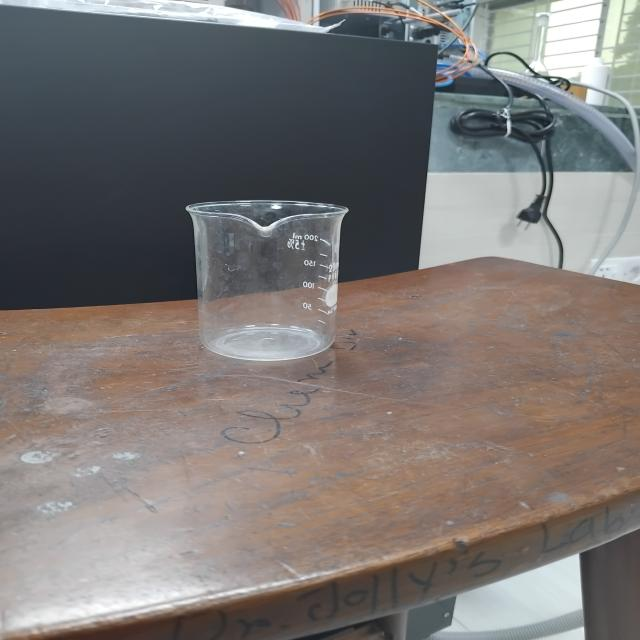Beaker: (158, 160, 388, 395)
